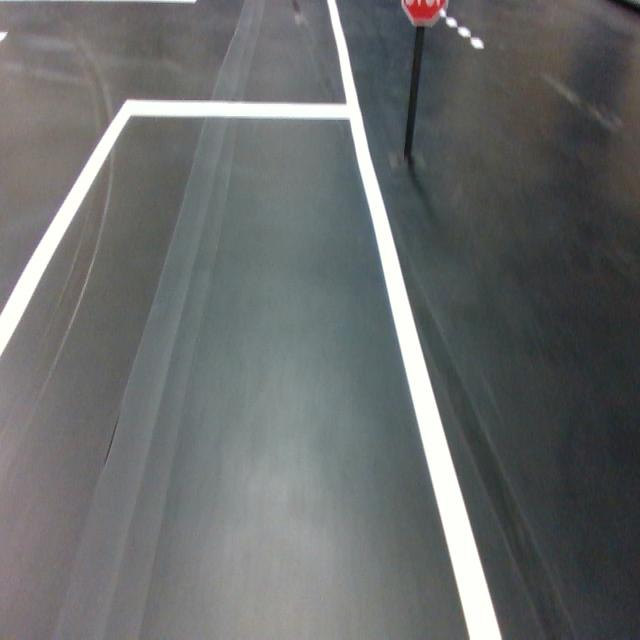stop-sign: (401, 0, 449, 27)
